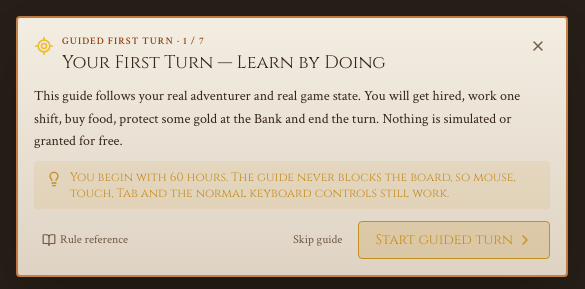
Scenario: TutorialOverlay guided first turn › advances only after real player state changes
Later steps or results of the test are not shown.
Check: the heading "Your First Turn — Learn by Doing" is shown, box x1=62 y1=49 x2=386 y2=77
Click the button "Start guided turn".
click(454, 240)  # box x1=358 y1=221 x2=550 y2=259
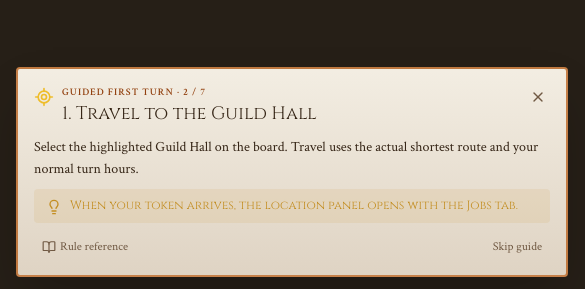
Check: the heading "1. Travel to the Guild Hall" is shown, box x1=62 y1=100 x2=317 y2=128
